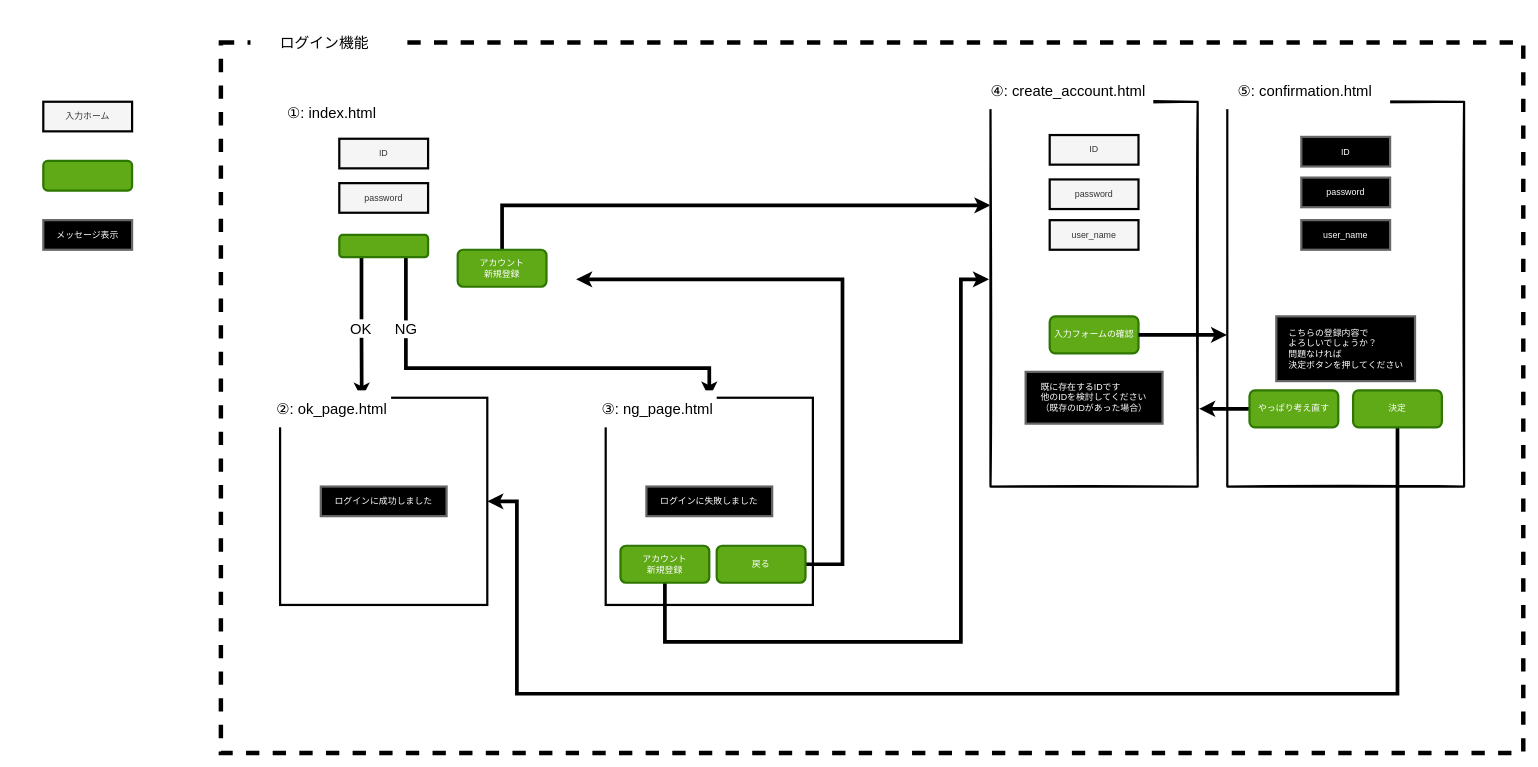
The diagram is 1538 pixels wide and 767 high, and some of its shapes have lost their labels. Here are the shapes that lost their labels. From the top down, the centre of each, then its label:
At (87,175): "ボタン".
At (383,245): "ログイン".
